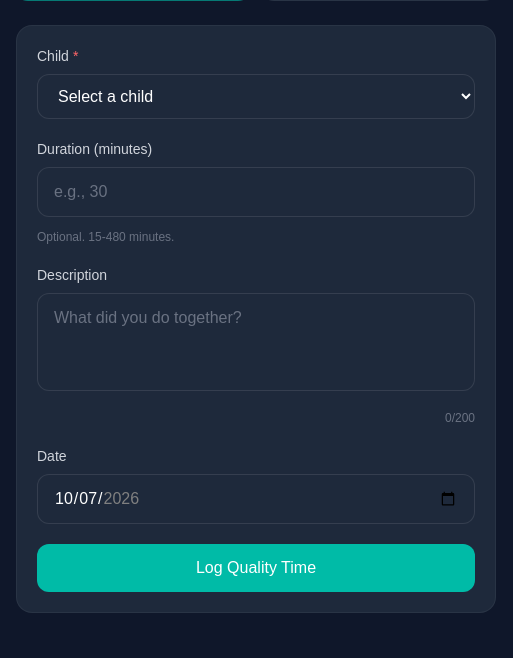
Test: Father Workspace Integration Tests › Journey 3: Log Quality Time › validates child selection is required
(page scrolled)
Note: Try to submit without selecting child
Click the button "Log Quality Time": (256, 568) [37,544,475,592]
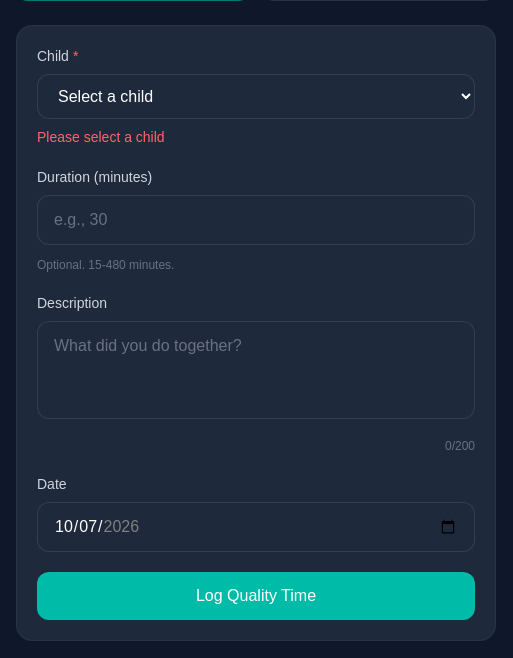
Expected: the text "Please select a child" is shown, [37,129,165,145]
